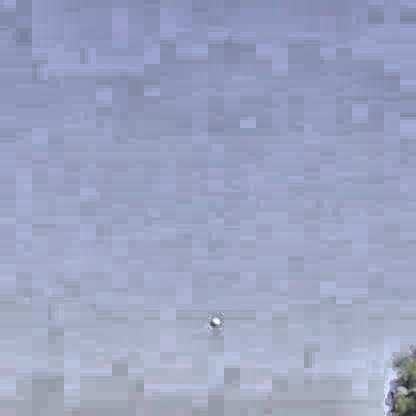golfball: (207, 314, 217, 325)
